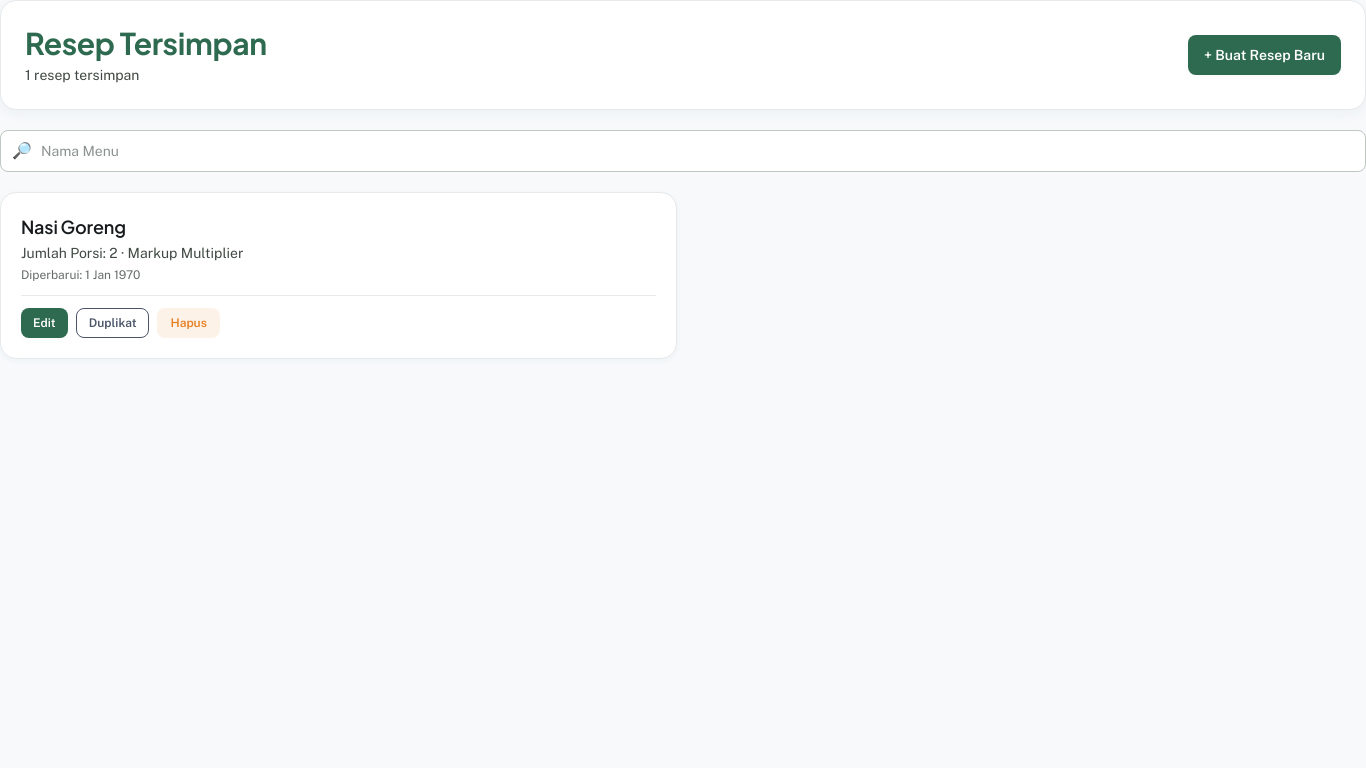
Test: SavedRecipesPage › cancelling delete keeps recipe
Expected: the heading "Nasi Goreng" is shown, [21, 215, 126, 238]
Step 1. Click the button "Hapus" → [189, 323], box [158, 308, 220, 338]
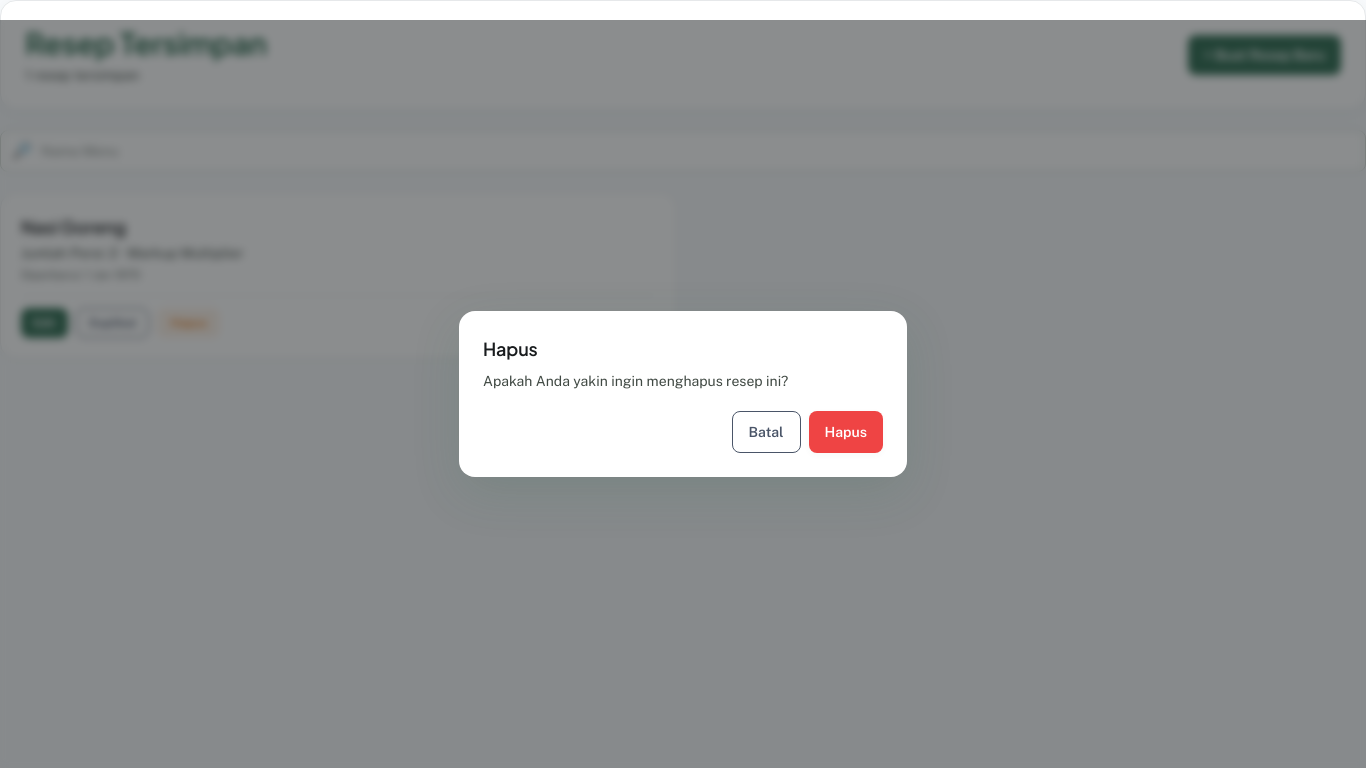
Step 2. Click the button "Batal" → [766, 432], box [732, 411, 801, 453]
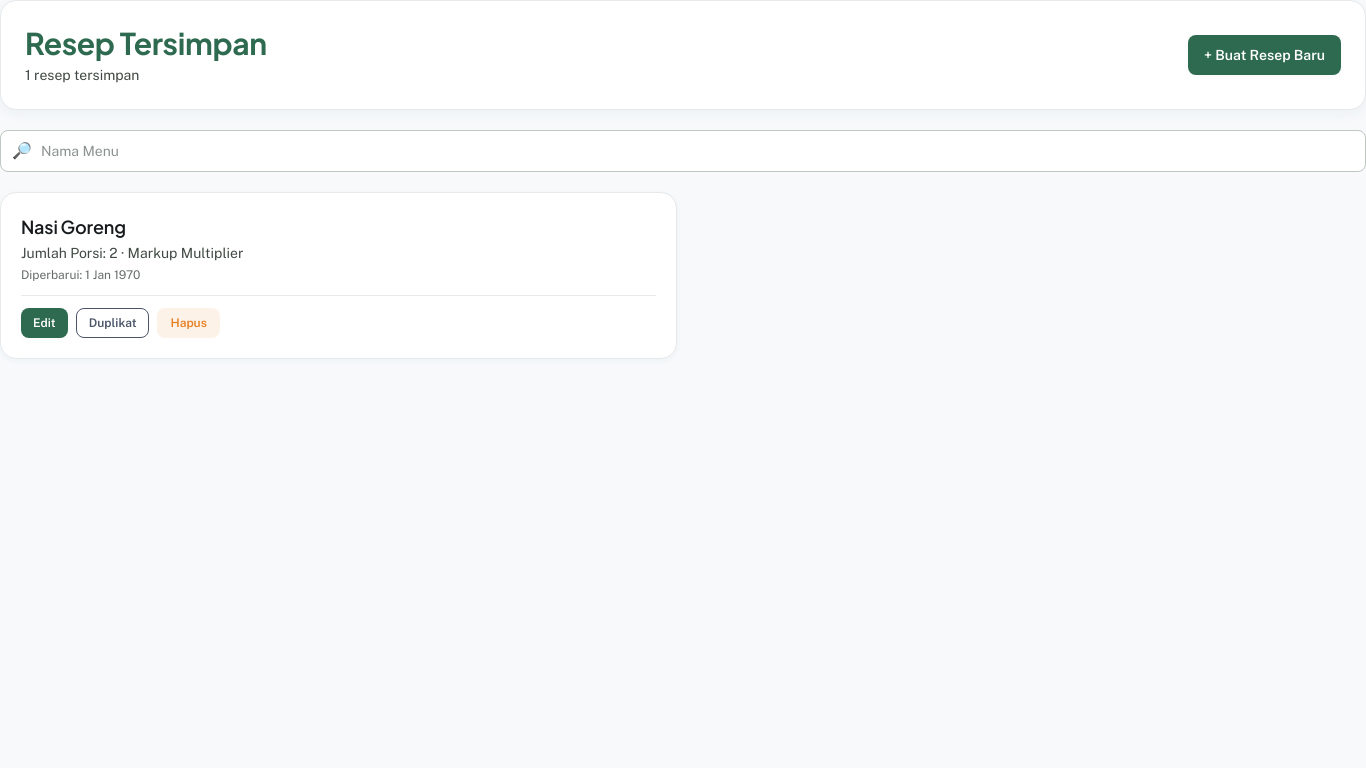
Expected: the heading "Nasi Goreng" is shown, [21, 215, 126, 238]
Result: the dialog is gone
